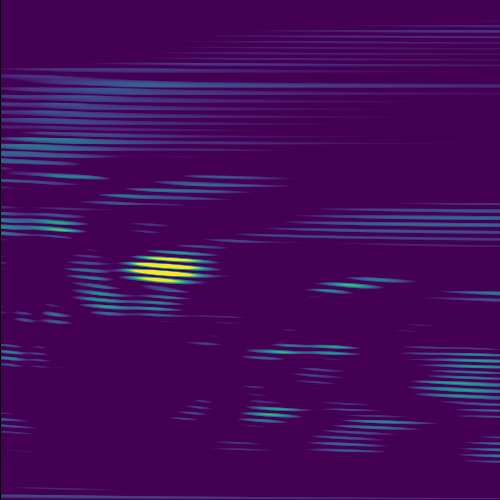semblance: (112, 251, 226, 286)
